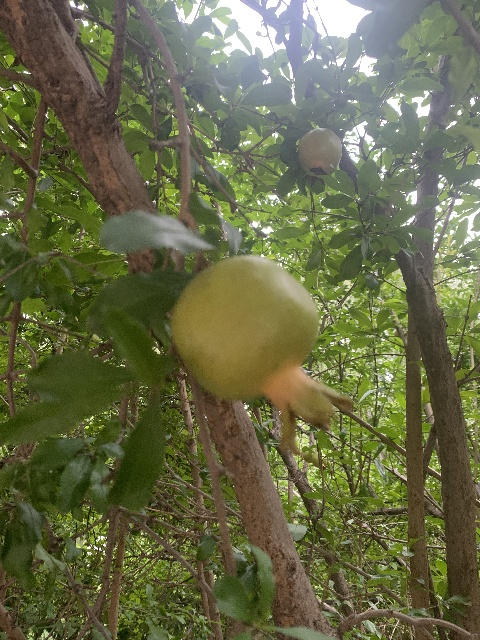mid-growth: (169, 256, 353, 459), (297, 127, 342, 175)
